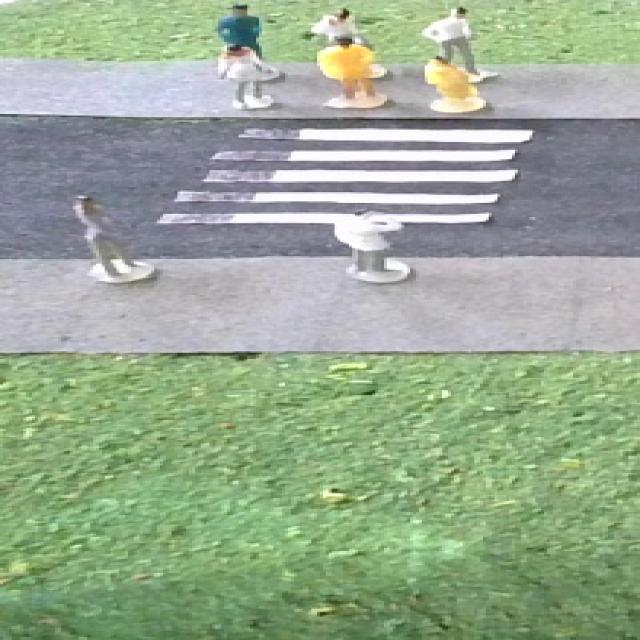person: (66, 191, 153, 281), (331, 204, 413, 283), (317, 35, 386, 108), (211, 39, 277, 109), (418, 54, 491, 114), (418, 7, 482, 54), (219, 1, 263, 45), (308, 7, 366, 37)
